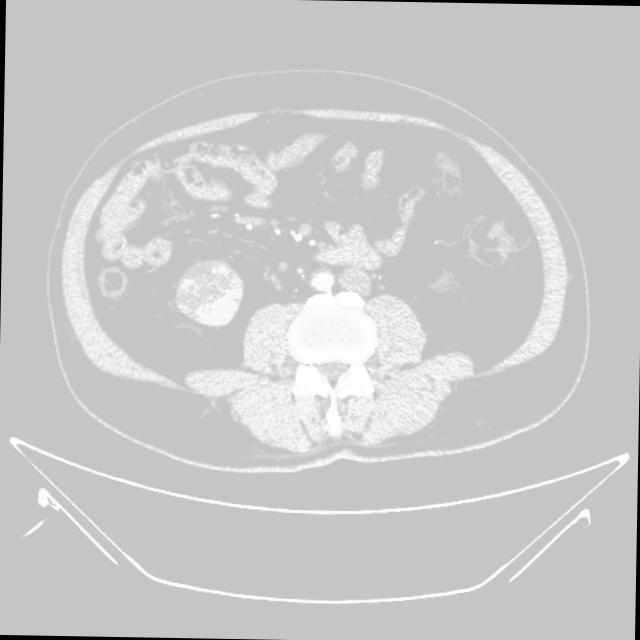TUMOR: (118, 197, 343, 353)
